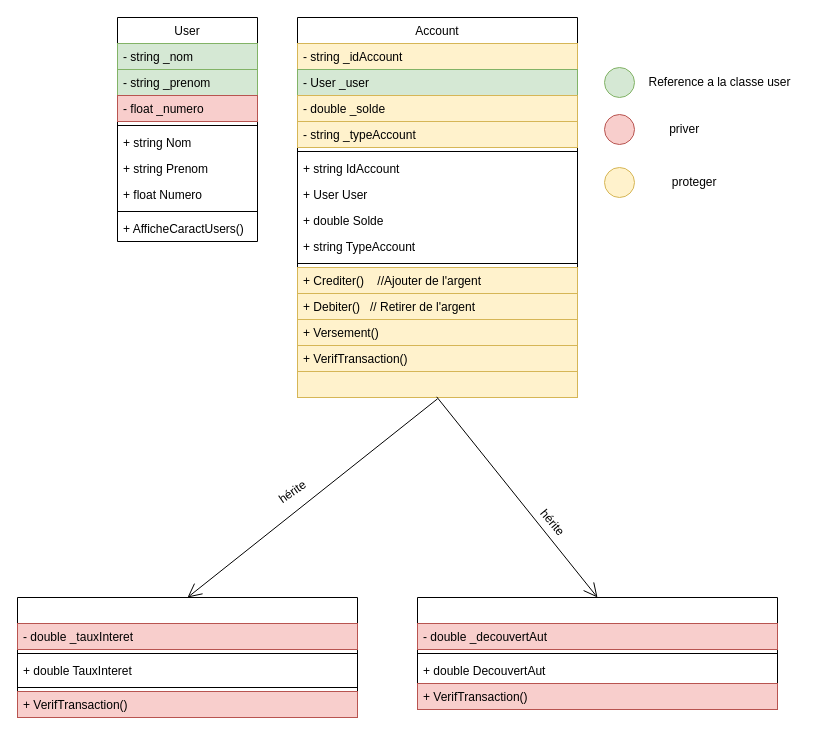
This 822x738 diagram has some shape labels left out. Here are the shapes that lost their labels. From the top down, the box of each, then its label:
(296, 370, 578, 398): + CaractCompte()
(16, 596, 358, 718): AccountEpargne
(416, 596, 778, 710): AccountCourant
